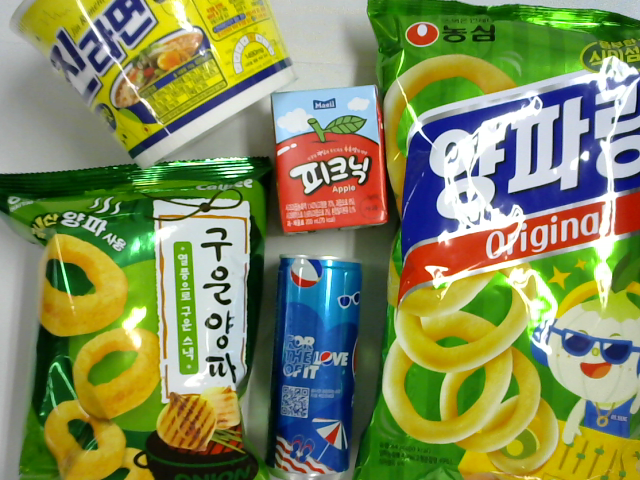Grilled_Onions: (1, 154, 273, 480)
Jinlamyeon_Mild_Taste_Large_Cup: (8, 1, 299, 172)
Oninon_Ring: (356, 1, 638, 478)
Pepsi_Cola_Can_250ml: (266, 255, 364, 478)
Picnic_Apple: (270, 85, 390, 236)
